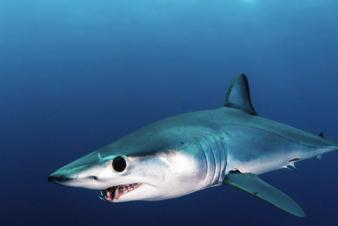Shark -Selachimorpha-: (42, 72, 338, 222)
